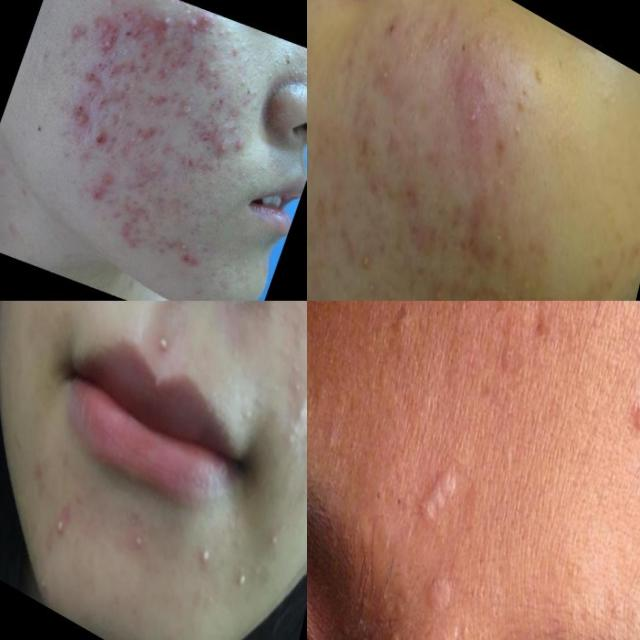acne_scars: (458, 198, 492, 274), (401, 212, 444, 264)
comedone: (358, 465, 390, 522), (384, 482, 410, 534), (369, 46, 396, 94), (508, 76, 536, 120), (331, 608, 363, 640), (502, 120, 528, 159), (524, 53, 550, 88), (351, 247, 377, 282), (262, 523, 286, 559), (384, 613, 412, 640), (470, 29, 491, 62), (260, 64, 278, 96), (422, 279, 448, 301), (156, 7, 176, 34), (216, 23, 240, 44), (280, 42, 298, 65), (111, 108, 128, 130), (245, 48, 263, 68), (307, 159, 312, 186)
flat_wart: (410, 442, 470, 546), (418, 560, 463, 622), (610, 388, 640, 470)
papule: (448, 54, 475, 100), (186, 8, 213, 37), (229, 132, 255, 162), (463, 101, 482, 136)
pustule: (146, 318, 178, 369), (226, 556, 254, 601), (49, 502, 71, 546), (192, 537, 218, 573), (208, 132, 236, 162), (126, 530, 147, 570), (32, 568, 52, 598)
sebo-crystan-conglo: (79, 10, 120, 60), (58, 94, 94, 136)
